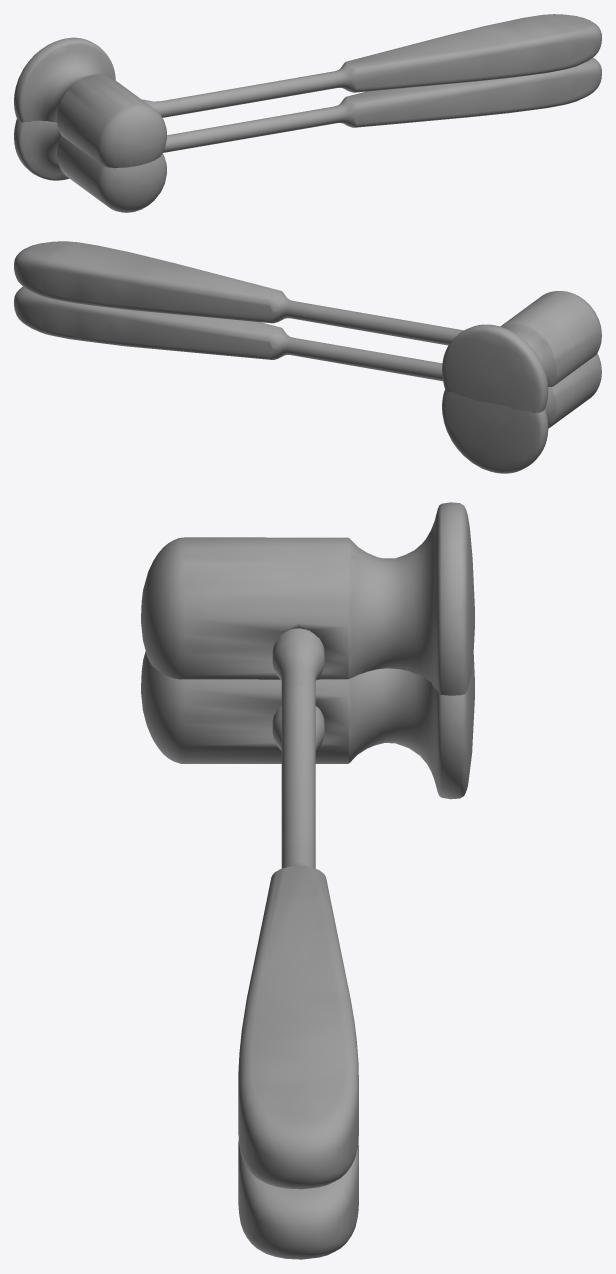
The model's file is instrument_bone_mallet_b01.glb.
3 views of the same model, one above another, from view 1: azimuth 30°, elevation 25°; view 2: azimuth 150°, elevation 25°; view 3: azimuth 270°, elevation 25° (orthographic). The views are drawn at different scales.
Visible parts, largest first — view 1: boneMallet_01_mesh_00 (×2); view 2: boneMallet_01_mesh_00 (×2); view 3: boneMallet_01_mesh_00 (×2).
Boxes of the visible parts, x1,y1,x2,y2 form: boneMallet_01_mesh_00 (×2): (14,14,601,212); boneMallet_01_mesh_00 (×2): (14,241,601,473); boneMallet_01_mesh_00 (×2): (141,502,474,1259).
Bounding box in the file's own units: 0.1917 × 0.0463 × 0.0509.
1 material, 1 textured.
